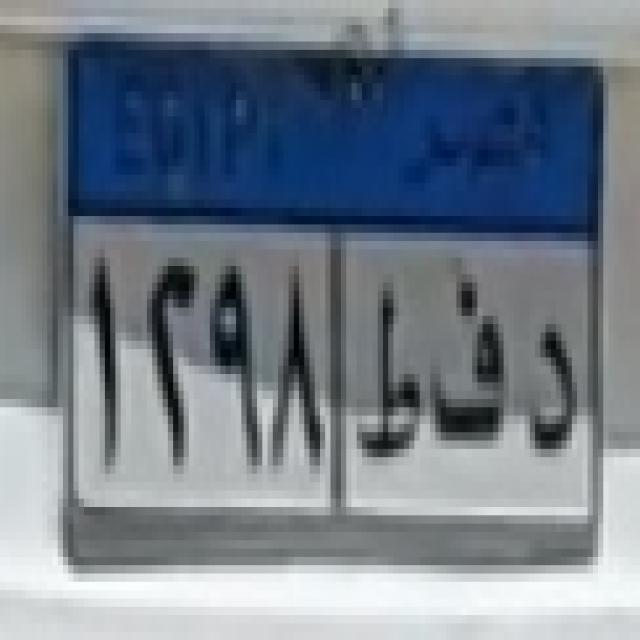1: (83, 247, 133, 483)
2: (142, 244, 204, 480)
8: (272, 262, 325, 476)
9: (206, 254, 264, 477)
F: (432, 253, 508, 447)
Taa: (358, 280, 427, 466)
daal: (523, 313, 581, 461)
